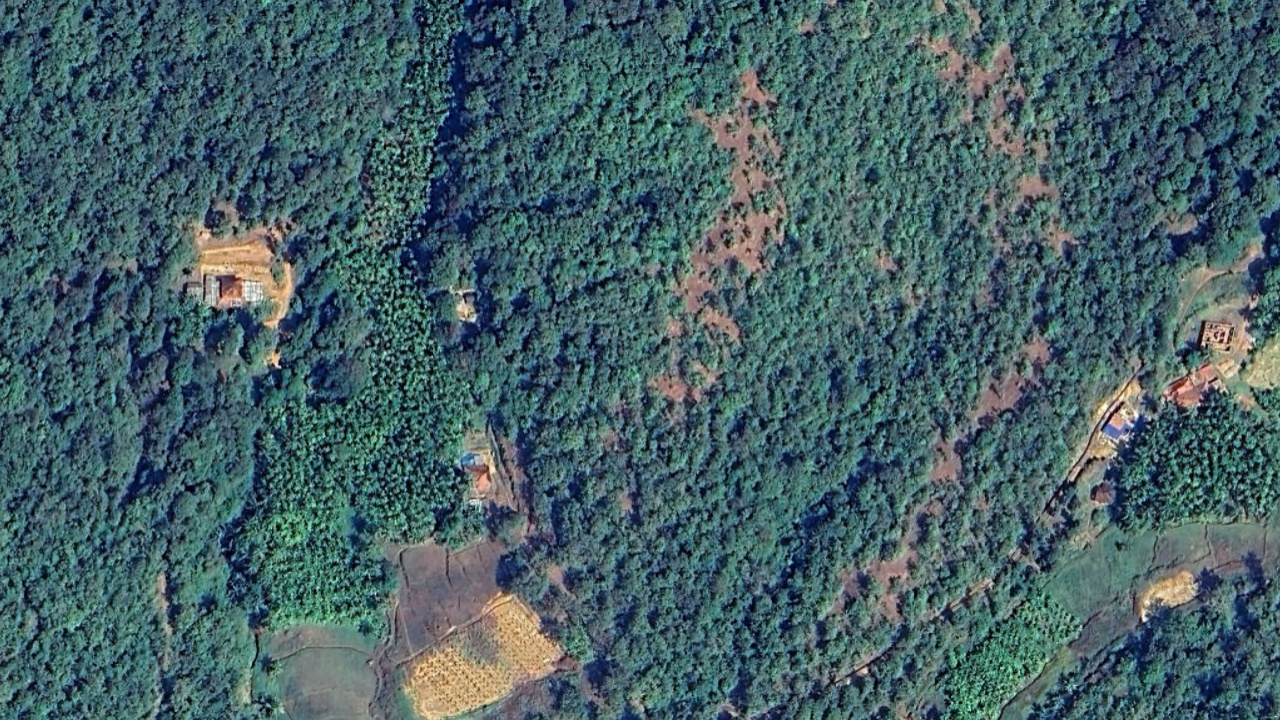arecanut: (353, 1, 476, 565), (278, 393, 384, 631), (943, 579, 1081, 719), (1170, 375, 1280, 535)
